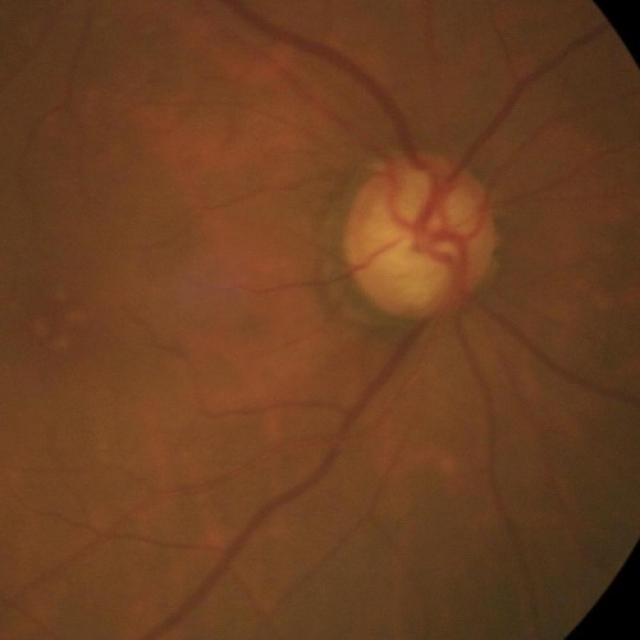OC: (362, 187, 472, 304)
OD: (344, 153, 497, 318)
